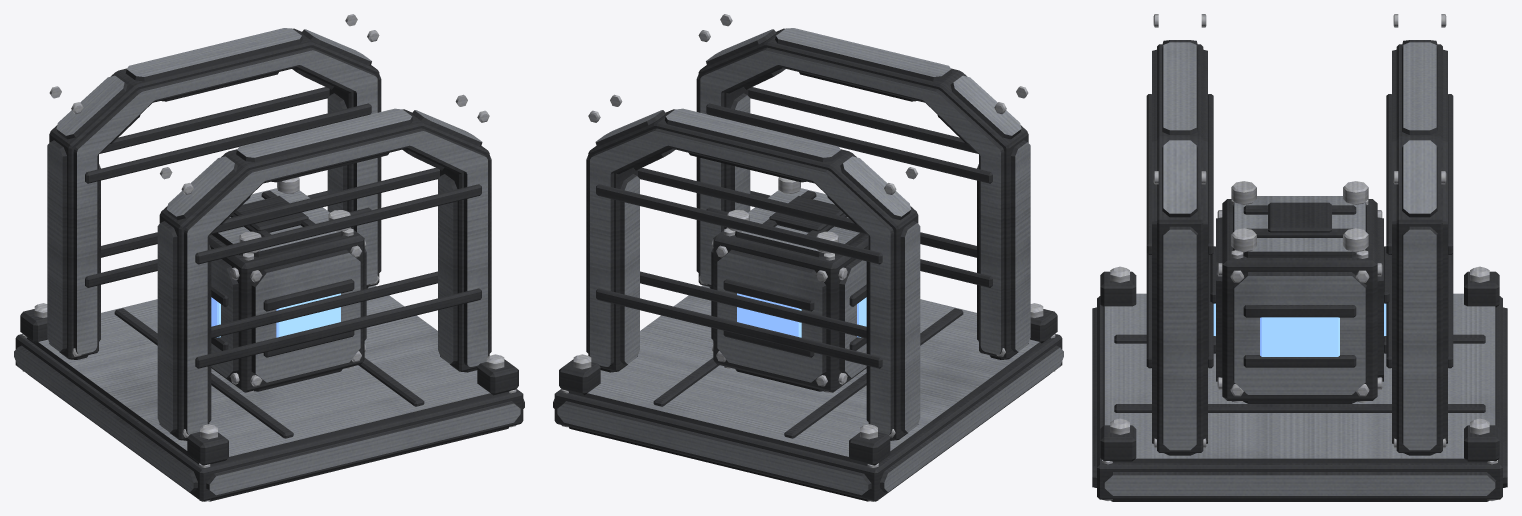
Rendered from R4X_ModuleDurabilityBooster.glb.
The picture shows the model from 3 angles, left to right: view 1: azimuth 30°, elevation 25°; view 2: azimuth 150°, elevation 25°; view 3: azimuth 270°, elevation 25°; orthographic projection. The views are drawn at different scales.
Visible parts, largest first — view 1: R4X_ModuleDurabilityBooster_Body; view 2: R4X_ModuleDurabilityBooster_Body; view 3: R4X_ModuleDurabilityBooster_Body.
Part boxes in pixels (box(x1,y1,x2,y2)): R4X_ModuleDurabilityBooster_Body: box(14, 14, 524, 501); R4X_ModuleDurabilityBooster_Body: box(553, 14, 1063, 501); R4X_ModuleDurabilityBooster_Body: box(1092, 14, 1507, 501).
Bounding box in the file's own units: 0.52 × 0.46 × 0.52.
4 materials, 3 textured.
